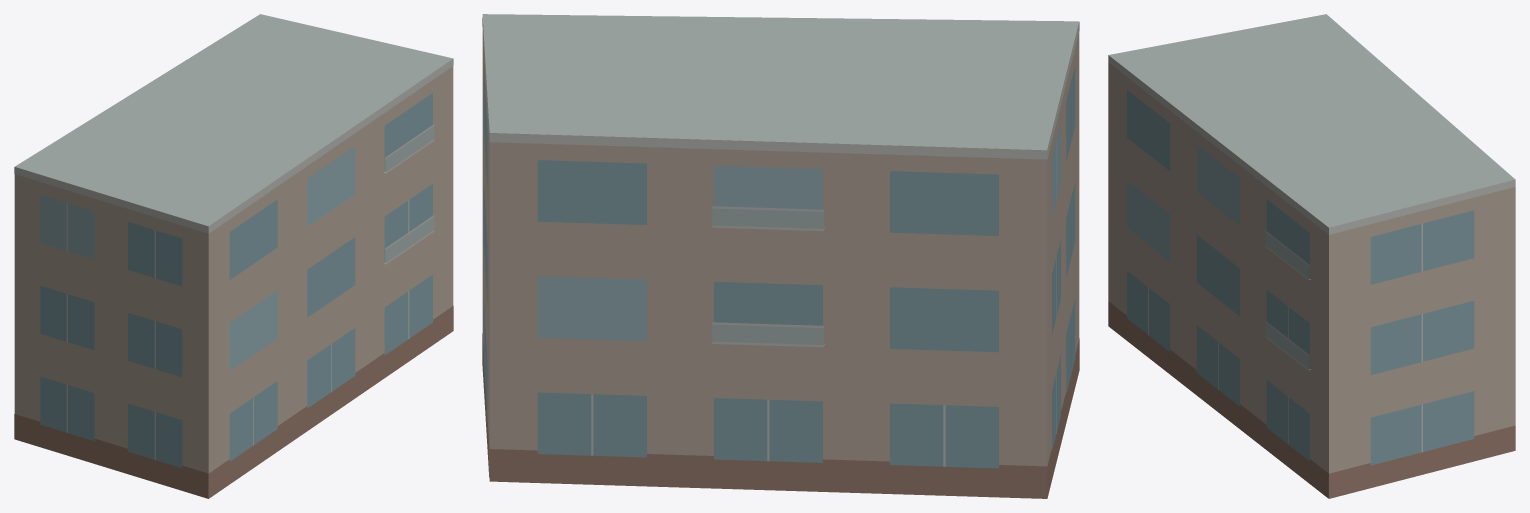
Rendered from survey-upis-32646445.glb.
3 renders of one model, left to right at view 1: azimuth 30°, elevation 25°; view 2: azimuth 150°, elevation 25°; view 3: azimuth 270°, elevation 25°, orthographic. The views are drawn at different scales.
Parts seen in each view (by area): view 1: survey-upis-32646445.tmp; view 2: survey-upis-32646445.tmp; view 3: survey-upis-32646445.tmp.
Part boxes in pixels (bbox=[...]): survey-upis-32646445.tmp: bbox=[14, 14, 453, 498]; survey-upis-32646445.tmp: bbox=[482, 14, 1079, 498]; survey-upis-32646445.tmp: bbox=[1108, 14, 1515, 498].
Bounding box in the file's own units: 15.48 × 9.15 × 12.47.
